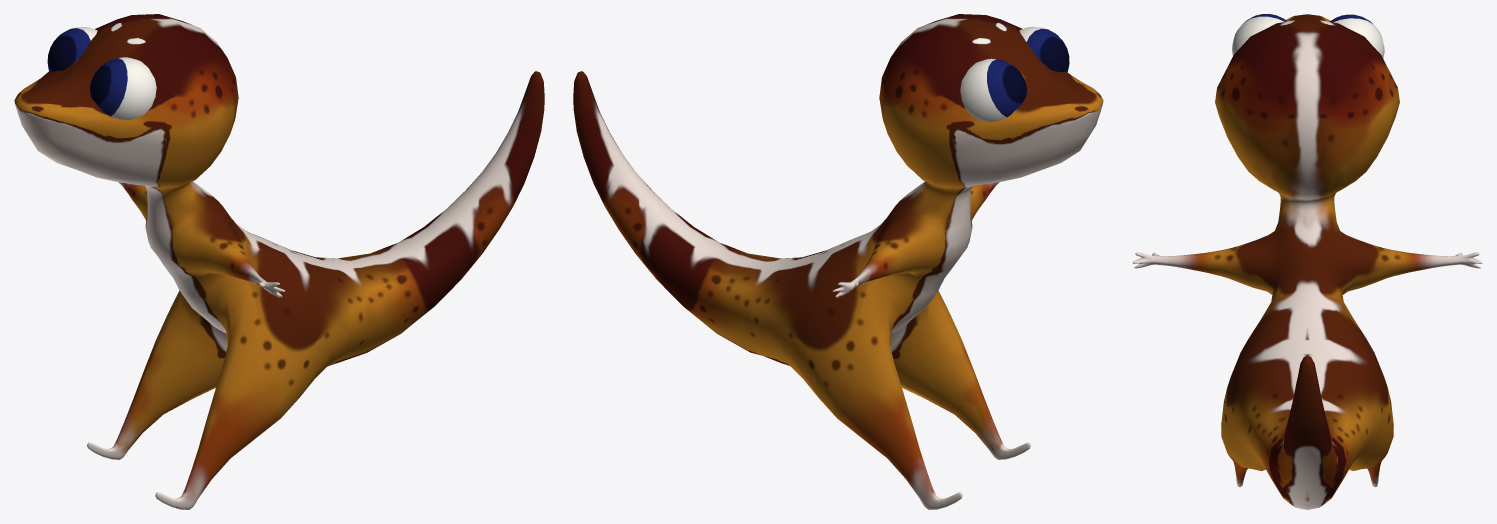
The model's file is Lizzie_tex.fbx.
3 renders of one model, left to right at view 1: azimuth 30°, elevation 25°; view 2: azimuth 150°, elevation 25°; view 3: azimuth 270°, elevation 25°, orthographic.
Parts seen in each view (by area): view 1: polySurface18; view 2: polySurface18; view 3: polySurface18.
Part boxes in pixels (x1,y1,x2,y2): polySurface18: (14, 14, 544, 509); polySurface18: (573, 14, 1103, 509); polySurface18: (1132, 14, 1482, 509).
Bounding box in the file's own units: 4.35 × 3.69 × 2.55.
